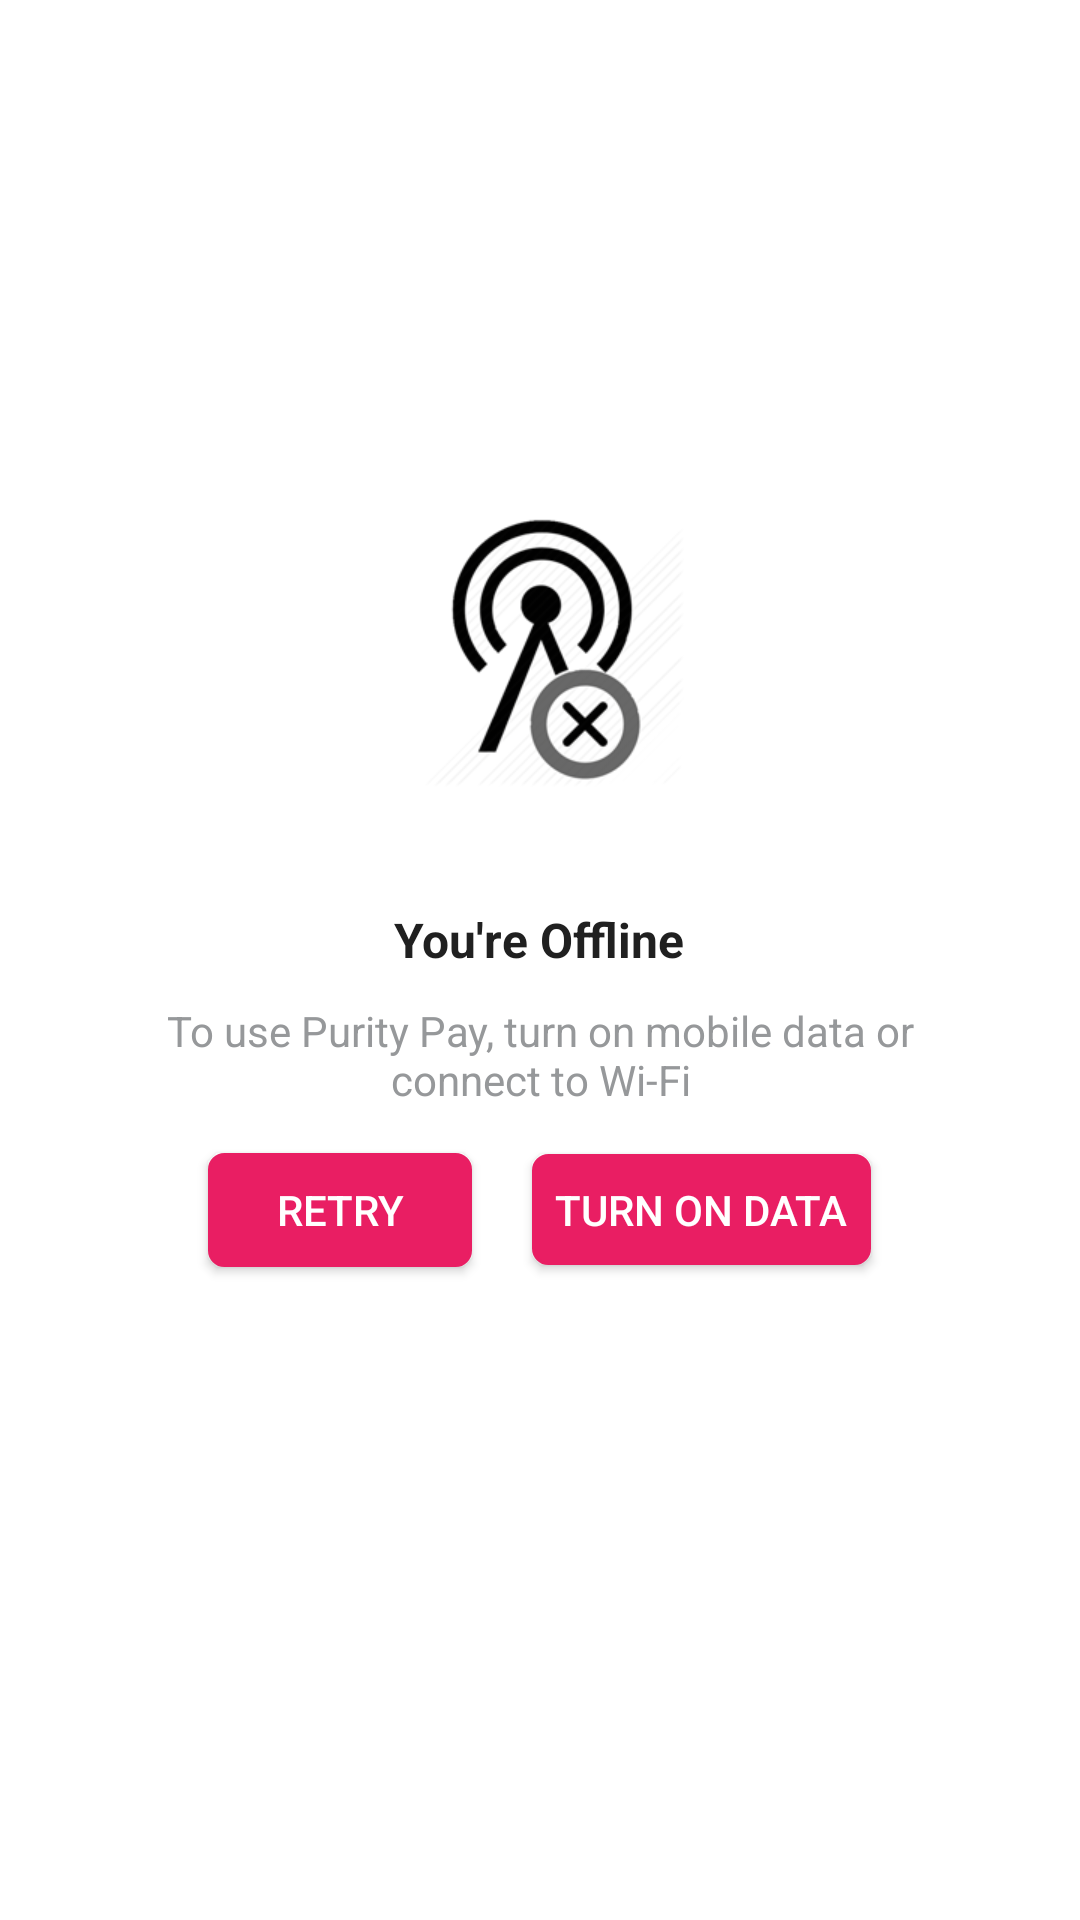

Icon bounding boxes for this 1080px x 1920px phone screenshot, format box(x1, y1, x2, y2):
network signal: box(451, 519, 641, 780)
